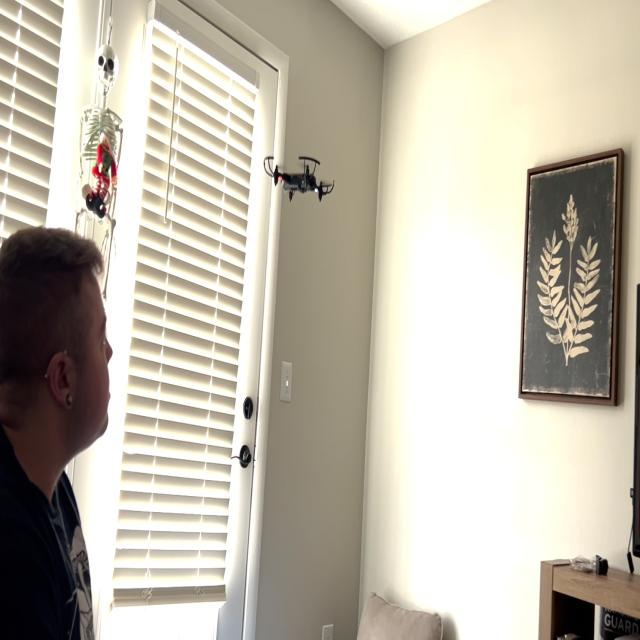drone: (256, 138, 341, 211)
